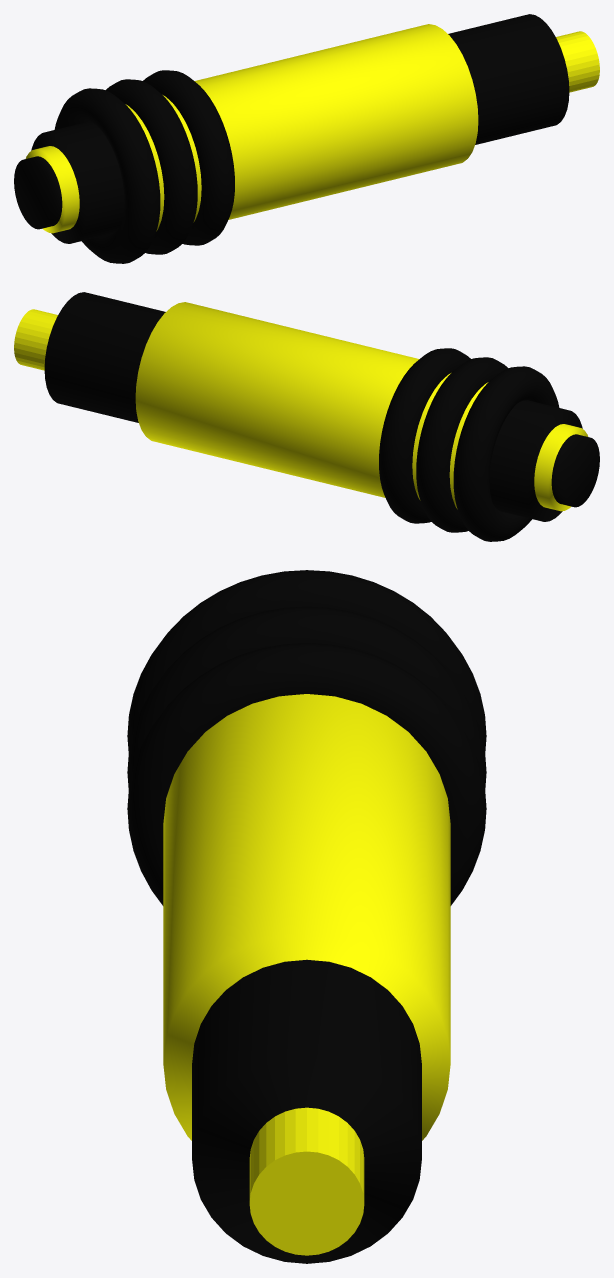
File: weapon.glb
The picture shows the model from 3 angles, top to bottom: view 1: azimuth 30°, elevation 25°; view 2: azimuth 150°, elevation 25°; view 3: azimuth 270°, elevation 25°; orthographic projection. The views are drawn at different scales.
Visible parts, largest first — view 1: Cyl2, Cylinder.001, Ring1, Ring2, Ring3, Lock, Trigger, Cyl3; view 2: Cyl2, Cylinder.001, Ring1, Ring2, Ring3, Lock, Trigger, Cyl3; view 3: Cyl2, Cylinder.001, Ring3, Trigger, Ring1, Ring2.
Boxes of the visible parts, box(x1,y1,x2,y2) form: Cyl2: box(125, 24, 478, 231); Cylinder.001: box(31, 14, 569, 243); Ring1: box(54, 88, 160, 263); Ring2: box(105, 79, 197, 254); Ring3: box(143, 70, 234, 245); Lock: box(14, 156, 62, 229); Trigger: box(556, 31, 599, 92); Cyl3: box(25, 146, 79, 233); Cyl2: box(135, 302, 488, 509); Cylinder.001: box(44, 292, 582, 521); Ring1: box(453, 366, 559, 541); Ring2: box(416, 357, 508, 532); Ring3: box(379, 348, 470, 523); Lock: box(551, 434, 599, 507); Trigger: box(14, 309, 57, 370); Cyl3: box(534, 424, 588, 511); Cyl2: box(163, 694, 450, 1140); Cylinder.001: box(192, 959, 421, 1263); Ring3: box(127, 643, 486, 905); Trigger: box(249, 1107, 364, 1255); Ring1: box(127, 570, 486, 752); Ring2: box(127, 606, 486, 788).
Bounding box in the file's own units: 8.9 × 2.5 × 2.5.
